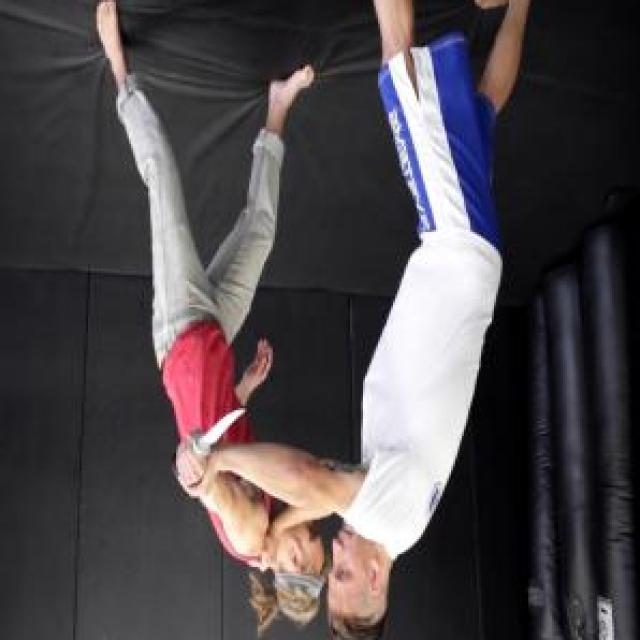knife: (168, 398, 248, 484)
